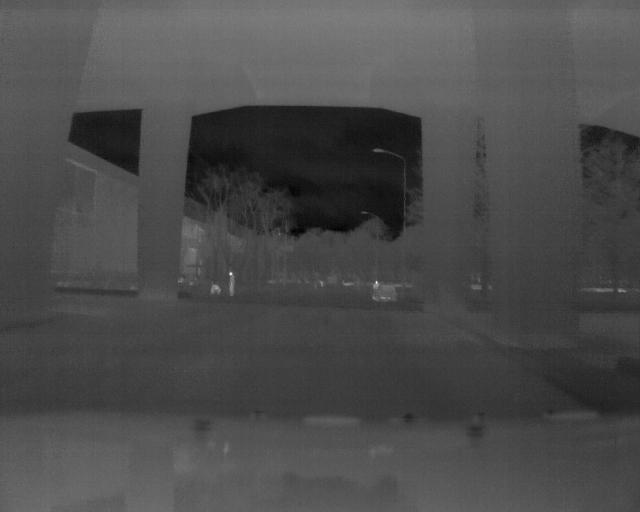car: (369, 281, 398, 303)
person: (224, 269, 238, 297)
